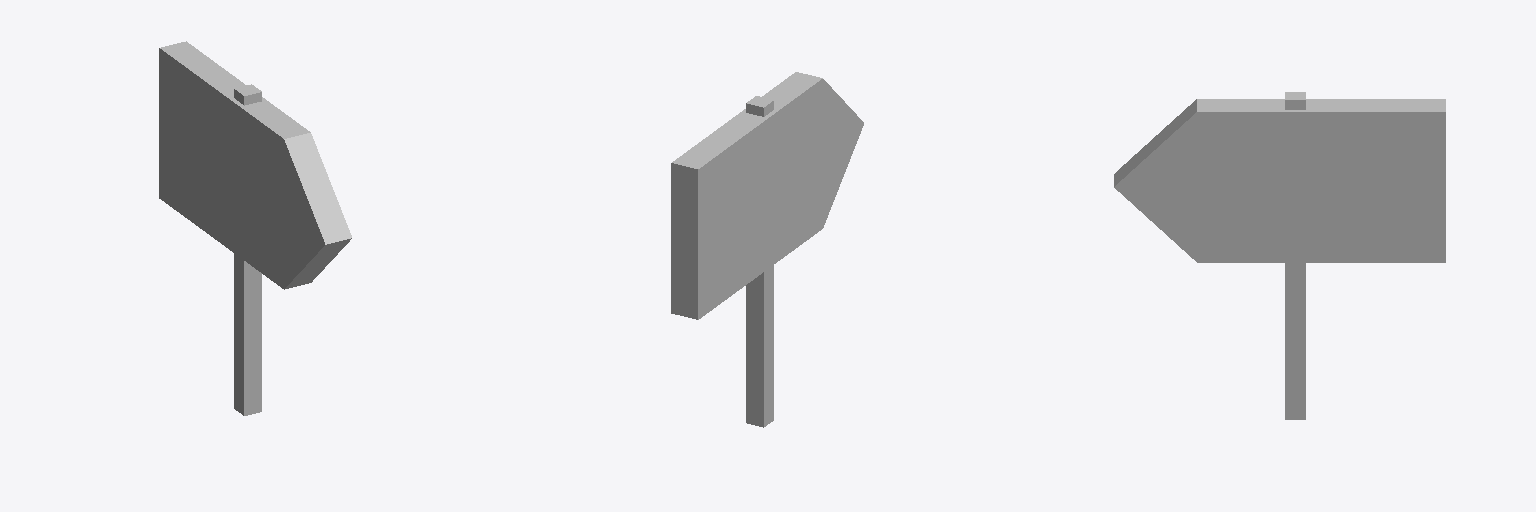
The model's file is Panneau END.obj.
The picture shows the model from 3 angles: view 1: azimuth 30°, elevation 25°; view 2: azimuth 150°, elevation 25°; view 3: azimuth 270°, elevation 25°; orthographic projection.
Parts seen in each view (by area): view 1: mesh; view 2: mesh; view 3: mesh.
Part boxes in pixels (bbox=[...]): mesh: bbox=[159, 41, 351, 415]; mesh: bbox=[671, 72, 863, 427]; mesh: bbox=[1114, 92, 1445, 419].
Size of the model in its own units: 0.0938 by 1.06 by 1.